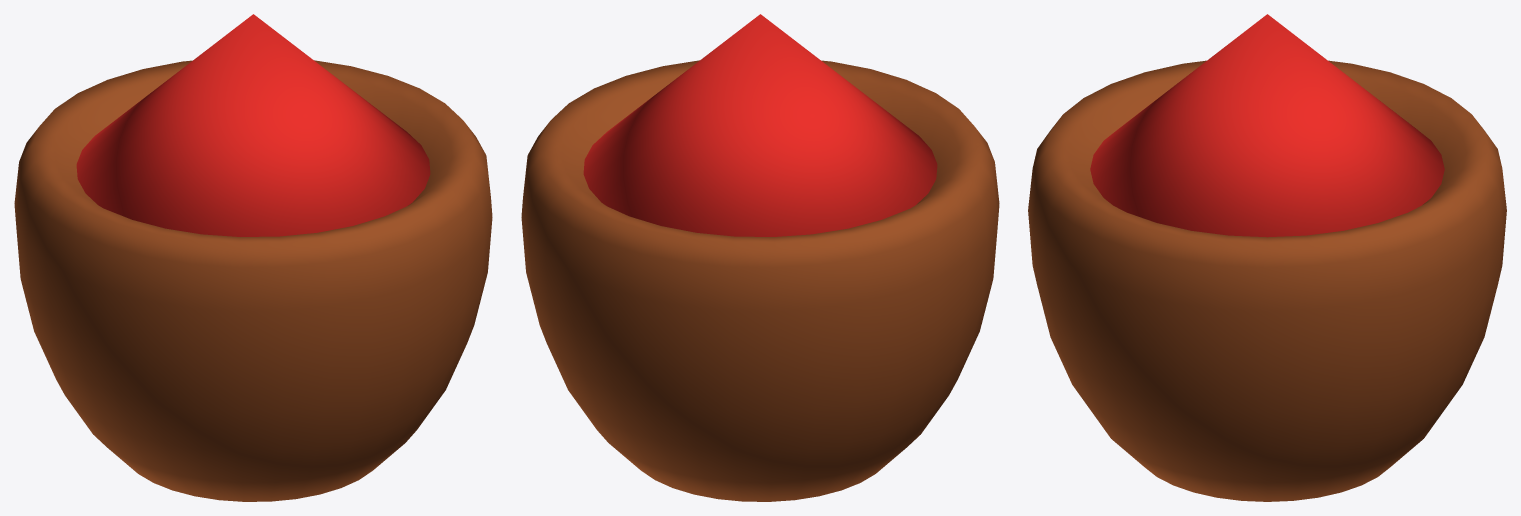
Rendered from Sand_bowl.fbx.
3 views of the same model, side by side, from view 1: azimuth 30°, elevation 25°; view 2: azimuth 150°, elevation 25°; view 3: azimuth 270°, elevation 25° (orthographic).
Parts seen in each view (by area): view 1: Sphere, Cone; view 2: Sphere, Cone; view 3: Sphere, Cone.
Boxes of the visible parts, x1,y1,x2,y2 form: Sphere: (14,60,492,501); Cone: (76,14,430,236); Sphere: (521,60,999,501); Cone: (583,14,937,236); Sphere: (1028,60,1506,501); Cone: (1090,14,1444,237).
Size of the model in its own units: 214 by 213 by 214.
